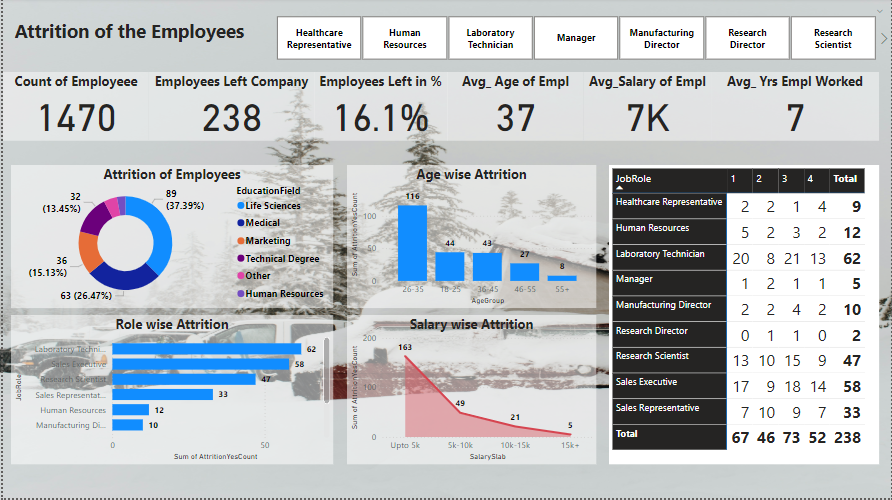

What the dashboard file says about the page in this screenshot:
{"tool":"powerbi","page":{"name":"Page 1","canvas":[1280,720],"ordinal":0},"visuals":[{"type":"card","title":"Count of Employeee","fields":{"Values":["Count(HR_Analytics.EmpID)"]},"box":[0,107,210.2,99.4],"z":0},{"type":"card","title":"Employees Left Company","fields":{"Values":["Sum(HR_Analytics.AttritionYesCount)"]},"box":[210.2,107,237.6,99.4],"z":1000},{"type":"card","title":"Employees Left in %","fields":{"Values":["HR_Analytics.AttritionRate_1"]},"box":[447.8,107,191.5,99.4],"z":2000},{"type":"card","title":"Avg_ Age of Empl","fields":{"Values":["Avg(HR_Analytics.Age)"]},"box":[639.4,107,197.3,99.4],"z":3000},{"type":"card","title":"Avg_Salary of Empl","fields":{"Values":["Avg(HR_Analytics.MonthlyIncome)"]},"box":[836.6,107,182.9,99.4],"z":4000},{"type":"card","title":"Avg_ Yrs Empl Worked","fields":{"Values":["Avg(HR_Analytics.YearsAtCompany)"]},"box":[1019.5,107,241.9,99.4],"z":5000},{"type":"donutChart","title":"Attrition of Employees","fields":{"Category":["HR_Analytics.EducationField"],"Y":["Sum(HR_Analytics.AttritionYesCount)"]},"box":[11.5,240.5,463.7,205.9],"z":6000},{"type":"columnChart","title":"Age wise Attrition","fields":{"Category":["HR_Analytics.AgeGroup"],"Y":["Sum(HR_Analytics.AttritionYesCount)"]},"box":[495.4,240.5,358.6,205.9],"z":7000},{"type":"barChart","title":"Role wise Attrition","fields":{"Category":["HR_Analytics.JobRole"],"Y":["Sum(HR_Analytics.AttritionYesCount)"]},"box":[11.5,456.5,463.7,214.6],"z":8000},{"type":"areaChart","title":"Salary wise Attrition","fields":{"Category":["HR_Analytics.SalarySlab"],"Y":["Sum(HR_Analytics.AttritionYesCount)"]},"box":[495.4,456.5,358.6,214.6],"z":9000},{"type":"textbox","box":[11.5,23,371.5,72],"z":10000},{"type":"slicer","fields":{"Values":["HR_Analytics.JobRole"]},"box":[368.6,11.5,911.5,83.5],"z":11000},{"type":"pivotTable","fields":{"Rows":["HR_Analytics.JobRole"],"Columns":["HR_Analytics.JobSatisfaction"],"Values":["Sum(HR_Analytics.AttritionYesCount)"]},"box":[872.6,240.5,388.8,430.6],"z":12000}]}

Visuals, with their boxes in screenshot pixels (x1, y1, x2, y2), scaled from the page's 1280x720 canvas onto the 892x500 screenshot:
"Count of Employeee" card: 0 74 146 143
"Employees Left Company" card: 146 74 312 143
"Employees Left in %" card: 312 74 446 143
"Avg_ Age of Empl" card: 446 74 583 143
"Avg_Salary of Empl" card: 583 74 710 143
"Avg_ Yrs Empl Worked" card: 710 74 879 143
"Attrition of Employees" donutChart: 8 167 331 310
"Age wise Attrition" columnChart: 345 167 595 310
"Role wise Attrition" barChart: 8 317 331 466
"Salary wise Attrition" areaChart: 345 317 595 466
textbox: 8 16 267 66
slicer - HR_Analytics.JobRole: 257 8 891 66
pivotTable - HR_Analytics.JobRole x HR_Analytics.JobSatisfaction: 608 167 879 466
